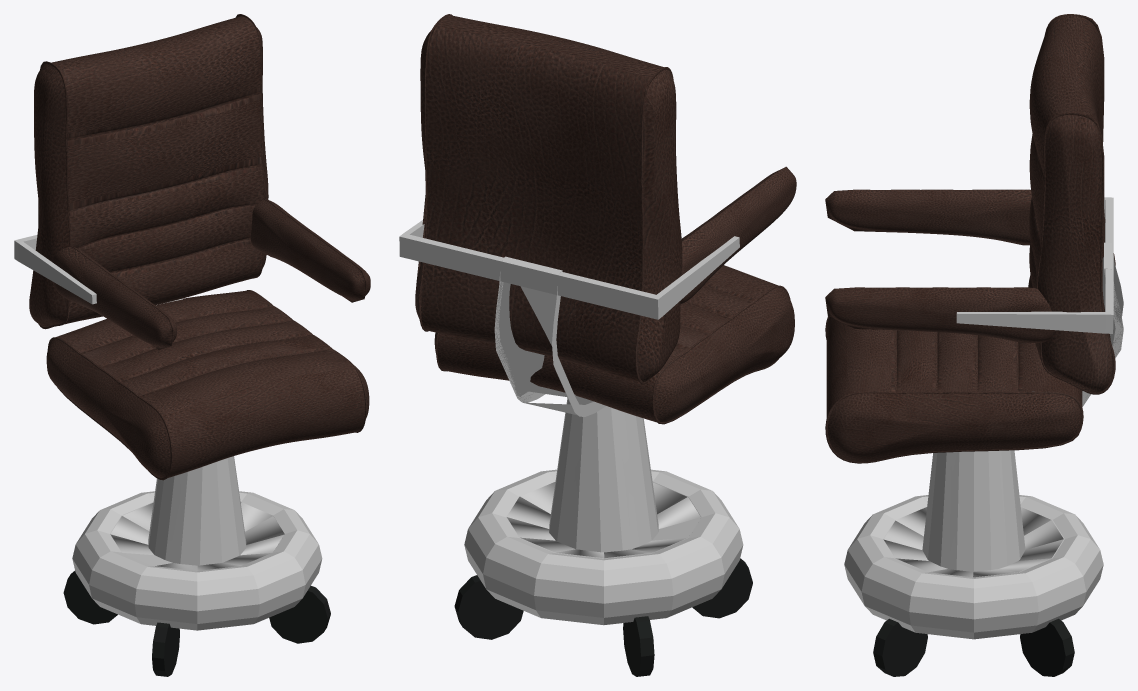
Rendered from Chair.fbx.
3 views of the same model, side by side, from view 1: azimuth 30°, elevation 25°; view 2: azimuth 150°, elevation 25°; view 3: azimuth 270°, elevation 25° (orthographic). The views are drawn at different scales.
Parts seen in each view (by area): view 1: Plane.003, Plane, Torus, Plane.006, Cylinder.034, Cylinder.038, Cube, Cylinder.037, Cylinder.039; view 2: Plane.003, Torus, Plane, Cube, Cylinder.034, Plane.006, Cylinder.036, Cylinder.039, Cylinder.037; view 3: Plane, Plane.003, Torus, Plane.006, Cylinder.034, Cube, Cylinder.038, Cylinder.036.
Boxes of the visible parts, x1,y1,x2,y2 form: Plane.003: (29,14,268,329); Plane: (46,290,369,480); Torus: (72,491,322,630); Plane.006: (52,199,370,349); Cylinder.034: (148,456,246,565); Cylinder.038: (269,586,330,643); Cube: (14,235,182,305); Cylinder.037: (63,571,117,624); Cylinder.039: (152,622,179,676); Plane.003: (415,14,682,384); Torus: (464,469,743,625); Plane: (434,265,794,424); Cube: (399,220,739,416); Cylinder.034: (549,398,658,552); Plane.006: (680,166,796,304); Cylinder.036: (454,575,523,639); Cylinder.039: (692,558,752,618); Cylinder.037: (623,616,654,676); Plane: (825,316,1083,463); Plane.003: (1028,14,1115,394); Torus: (844,495,1103,639); Plane.006: (825,189,1053,343); Cylinder.034: (922,450,1025,571); Cube: (956,197,1123,406); Cylinder.038: (873,618,927,676); Cylinder.036: (1020,618,1074,676).
Size of the model in its own units: 45.06 by 103 by 48.46.
